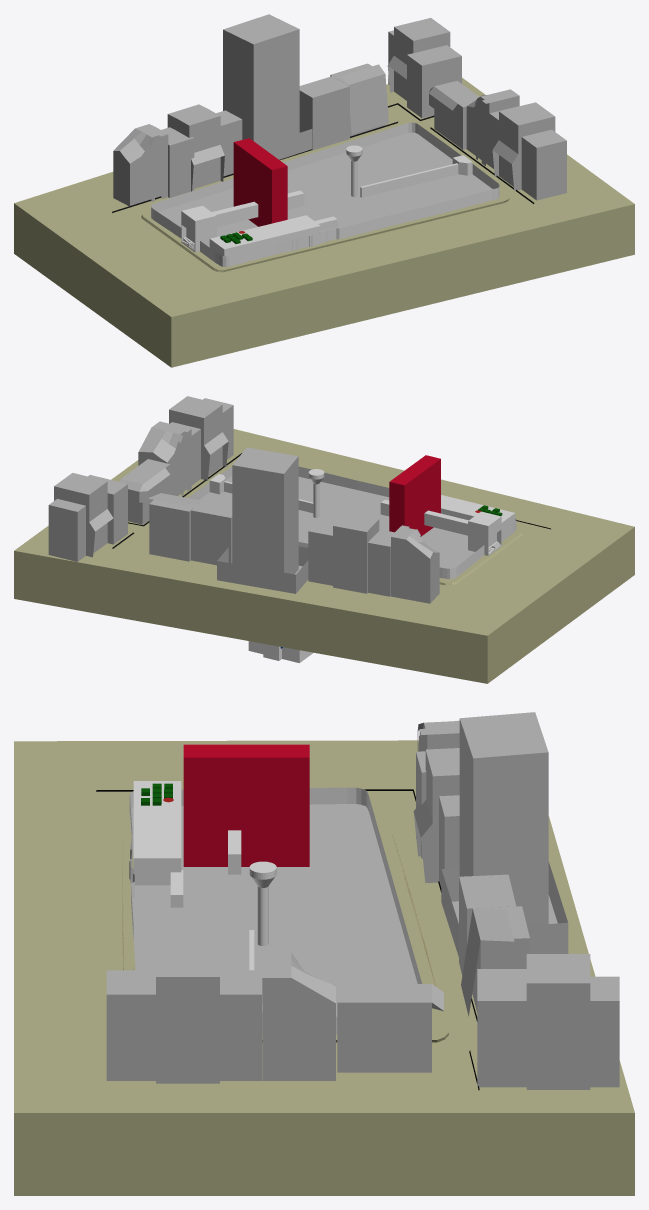
3 views of the same model, one above another, from view 1: azimuth 30°, elevation 25°; view 2: azimuth 150°, elevation 25°; view 3: azimuth 270°, elevation 25° (orthographic). The views are drawn at different scales.
Parts seen in each view (by area): view 1: rua, Cube.033; view 2: rua, Cube.033, Cube.001; view 3: rua, Cube.033.
Part boxes in pixels (left/top/right/bottom): rua: left=14, top=14, right=634, bottom=367; Cube.033: left=233, top=138, right=287, bottom=226; rua: left=14, top=396, right=634, bottom=683; Cube.033: left=389, top=455, right=440, bottom=536; Cube.001: left=248, top=641, right=313, bottom=662; rua: left=14, top=712, right=634, bottom=1195; Cube.033: left=183, top=744, right=309, bottom=866.
Size of the model in its own units: 1461 by 586 by 1029.
